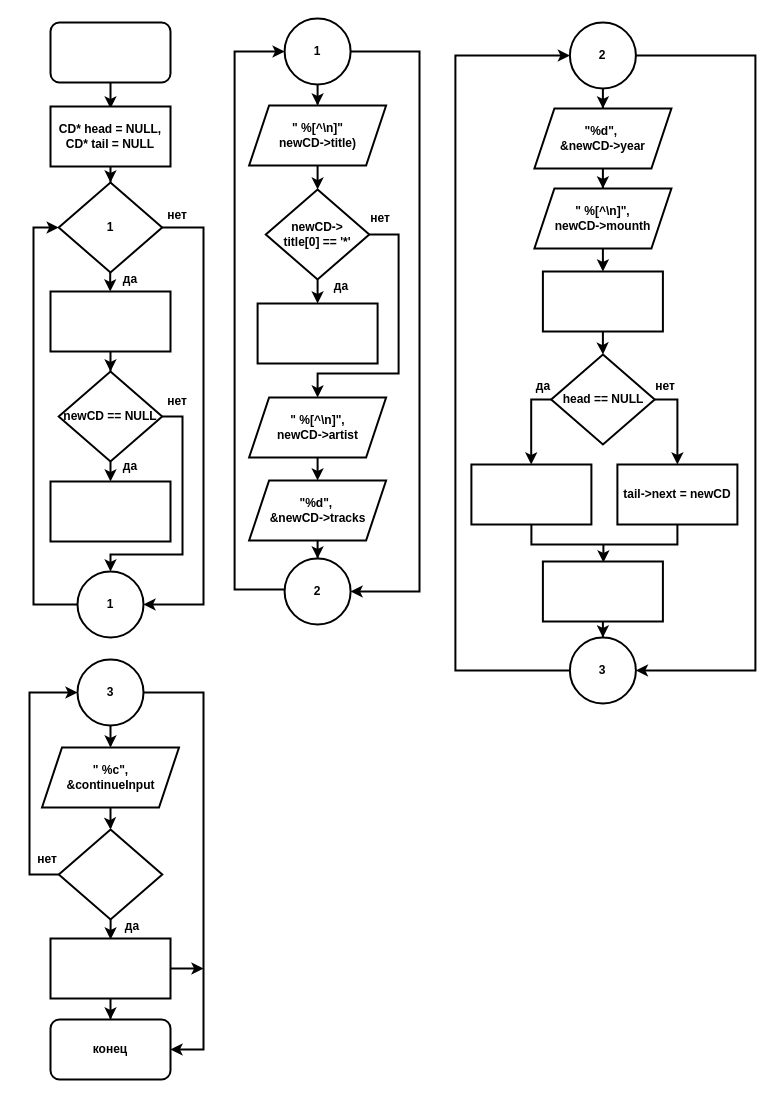
Image size: 781x1097. Some labels were removed from this diagram. The shapes that lost their labels are listed below. From the top down, each one's centre as x and y in pixels, then its label:
At point (110, 52): "начало".
At point (110, 321): "CD* newCD = (CD*) malloc(sizeof(CD))".
At point (602, 301): "newCD ->next = NULL".
At point (317, 333): "free(newCD), break".
At point (110, 511): "exit(1)".
At point (531, 494): "head = newCD".
At point (602, 591): "tail = newCD".
At point (110, 874): "continueInput == 'n' || continueInput == 'N'".
At point (110, 968): "break".
